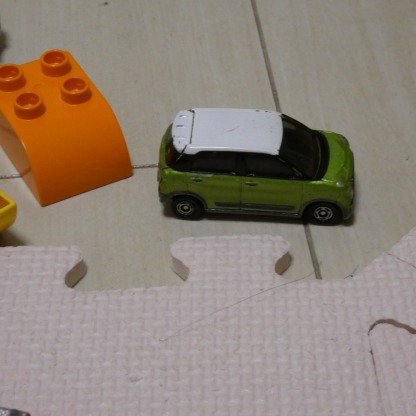car: (158, 105, 355, 229)
